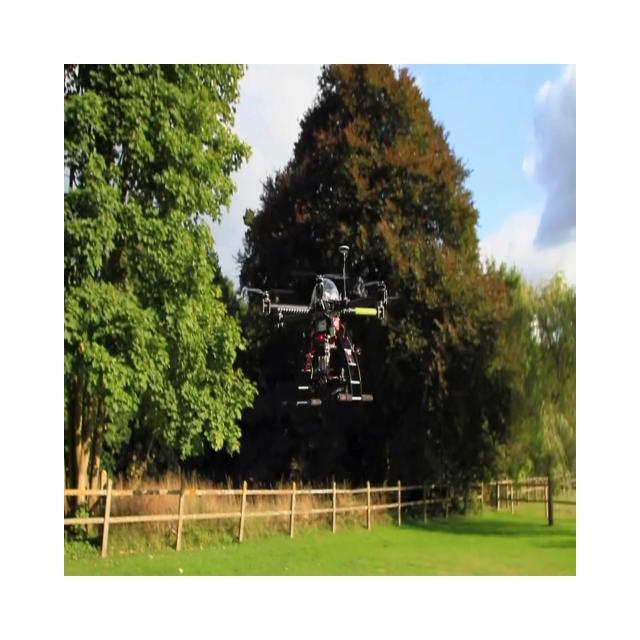drone: (236, 243, 399, 408)
